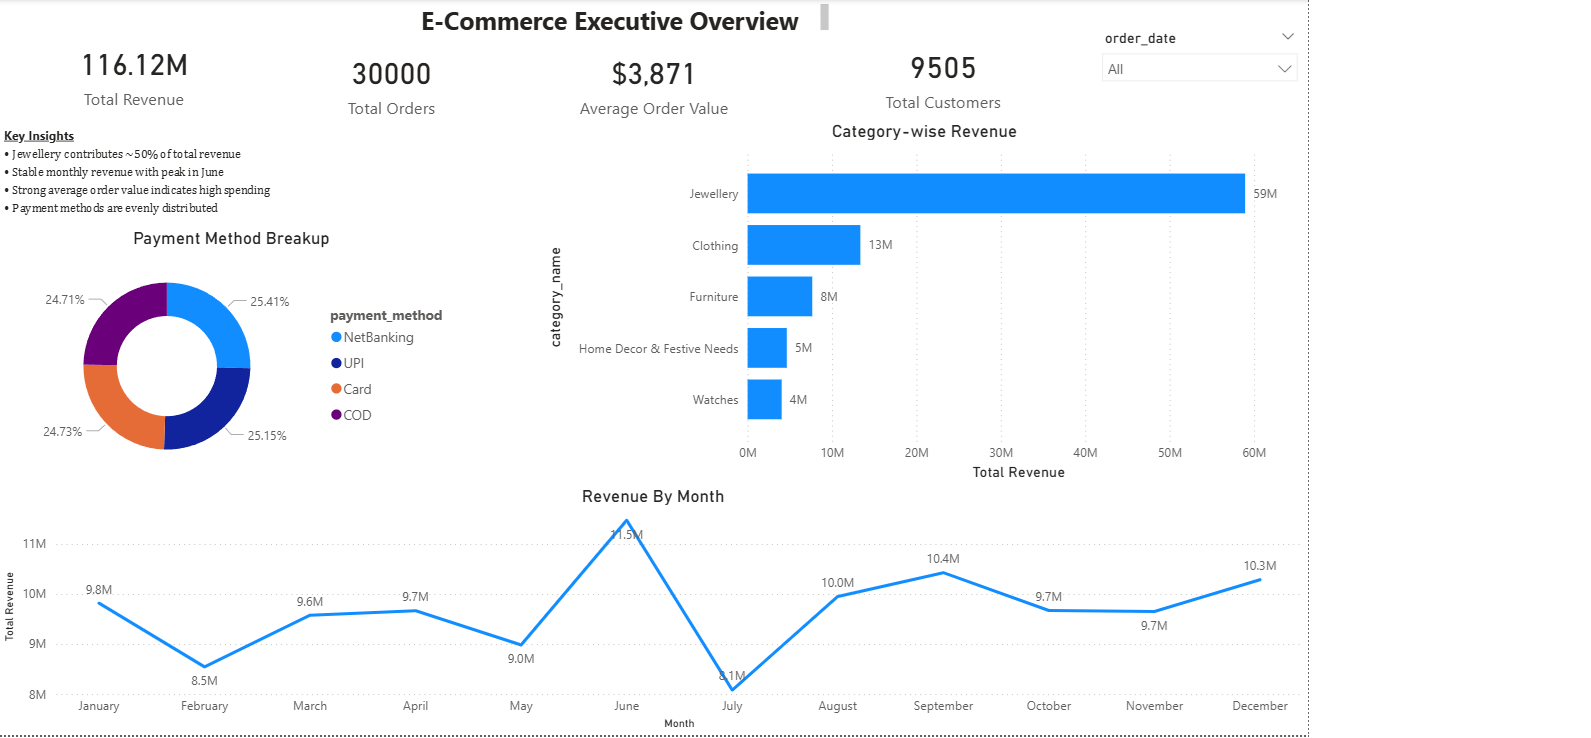

The dashboard page shown, as its layout file describes it:
{"tool":"powerbi","page":{"name":"E-Commerce Executive Overview","canvas":[1280,720],"ordinal":0},"visuals":[{"type":"card","fields":{"Values":["ecommerce order_items.Total Revenue"]},"box":[0,28.6,264.3,90],"z":0},{"type":"card","fields":{"Values":["ecommerce orders.Total Orders"]},"box":[264.3,37.1,240,90],"z":1000},{"type":"card","fields":{"Values":["ecommerce order_items.Average Order Value"]},"box":[504.3,37.1,274.3,90],"z":2000},{"type":"card","fields":{"Values":["ecommerce customers.Total Customers"]},"box":[778.9,30.6,289.8,90.5],"z":3000},{"type":"lineChart","title":"Revenue By Month","fields":{"Category":["ecommerce orders.order_date.Variation.Date Hierarchy.Month"],"Y":["ecommerce order_items.Total Revenue"]},"box":[0,475.7,1280,244.3],"z":4000},{"type":"clusteredBarChart","title":"Category-wise Revenue","fields":{"Category":["ecommerce categories.category_name"],"Y":["ecommerce order_items.Total Revenue"]},"box":[530.7,118.6,749.6,357.1],"z":5000},{"type":"donutChart","title":"Payment Method Breakup","fields":{"Category":["ecommerce orders.payment_method"],"Y":["ecommerce orders.Total Orders"]},"box":[0,223.8,454.9,251.9],"z":6000},{"type":"slicer","fields":{"Values":["ecommerce orders.order_date"]},"box":[1068.6,24.3,211.4,98.6],"z":7000},{"type":"textbox","box":[385,0,431.7,38.3],"z":8000},{"type":"textbox","box":[0,118.6,530.7,105.2],"z":9000}]}

Visuals, with their boxes on the page's 1280x720 design canvas (x1, y1, x2, y2). These are canvas units, not pixel positions in the 1591x738 screenshot, which may show the page scaled, cropped or inside an application window:
card - ecommerce order_items.Total Revenue: select_region(0, 29, 264, 119)
card - ecommerce orders.Total Orders: select_region(264, 37, 504, 127)
card - ecommerce order_items.Average Order Value: select_region(504, 37, 779, 127)
card - ecommerce customers.Total Customers: select_region(779, 31, 1069, 121)
"Revenue By Month" lineChart: select_region(0, 476, 1280, 720)
"Category-wise Revenue" clusteredBarChart: select_region(531, 119, 1280, 476)
"Payment Method Breakup" donutChart: select_region(0, 224, 455, 476)
slicer - ecommerce orders.order_date: select_region(1069, 24, 1280, 123)
textbox: select_region(385, 0, 817, 38)
textbox: select_region(0, 119, 531, 224)
